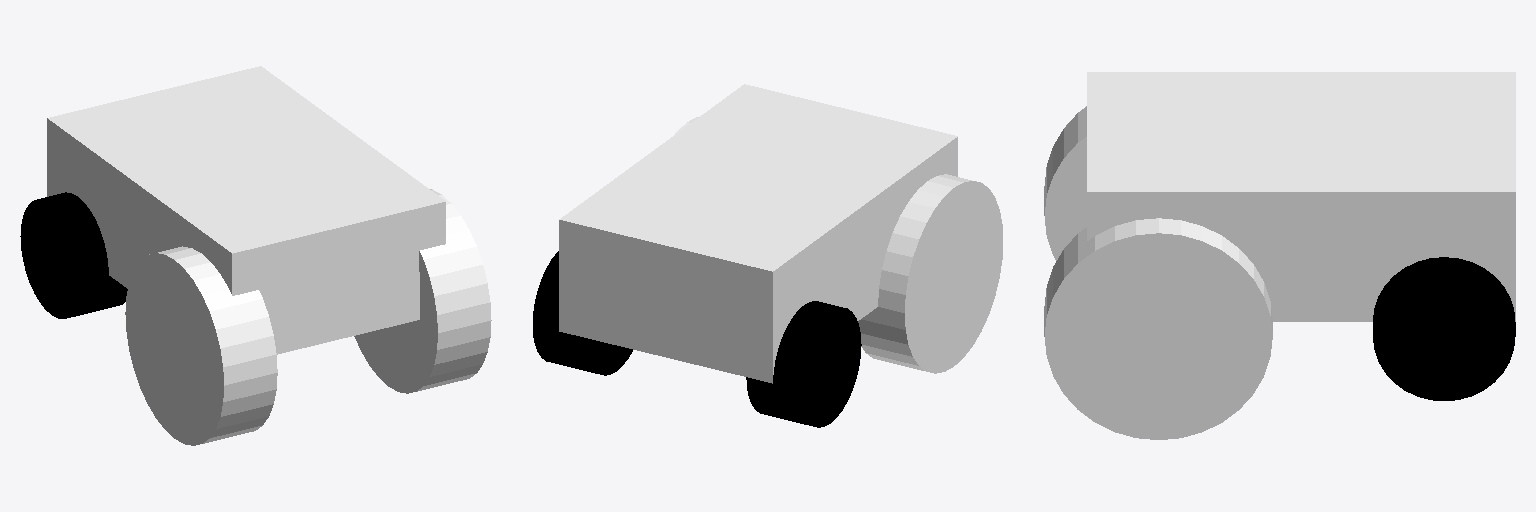
The robot description file, URDF, robot "car":
<!-- 
    需求: 长方体

 -->


<robot name="car">     
    <link name="base_link">
           <visual>
                 <geometry>
                       <box size="0.2 .3 .1"/>
                 </geometry>
            <origin rpy="0 0 0" xyz="0 0 0.05"/>
            <material name="white">
                <color rgba="1 1 1 1"/>
            </material>
           </visual>     
     </link>

     <link name="wheel_1">
           <visual>
                 <geometry>
                       <cylinder length="0.05" radius="0.05"/>
                 </geometry>
            <origin rpy="0 1.57 0" xyz="0.1 0.1 0"/>
               <material name="black">
                <color rgba="0 0 0 1"/>
            </material>
        </visual>
     </link>

     <link name="wheel_2">
           <visual>
                 <geometry>
                       <cylinder length="0.05" radius="0.05"/>
                 </geometry>
            <origin rpy="0 1.57 0" xyz="-0.1 0.1 0"/>
               <material name="black"/>
           </visual>
     </link>

     <link name="wheel_3">
           <visual>
                 <geometry>
                       <cylinder length="0.05" radius="0.08"/>
                 </geometry>
            <origin rpy="0 1.57 0" xyz="0.1 -0.1 0"/>
               <material name="white"/>
           </visual>
     </link>

     <link name="wheel_4">
           <visual>
                 <geometry>
                       <cylinder length="0.05" radius="0.08"/>
                 </geometry>
            <origin rpy="0 1.57 0" xyz="-0.1 -0.1 0"/>
               <material name="white"/>
           </visual>
     </link>

     <joint name="base_to_wheel1" type="fixed">
           <parent link="base_link"/>
           <child link="wheel_1"/>
           <origin xyz="0 0 0"/>
     </joint>

     <joint name="base_to_wheel2" type="fixed">
           <parent link="base_link"/>
           <child link="wheel_2"/>
           <origin xyz="0 0 0"/>
     </joint>

     <joint name="base_to_wheel3" type="fixed">
           <parent link="base_link"/>
           <child link="wheel_3"/>
           <origin xyz="0 0 0"/>
     </joint>

     <joint name="base_to_wheel4" type="fixed">
           <parent link="base_link"/>
           <child link="wheel_4"/>
           <origin xyz="0 0 0"/>
     </joint>
</robot>

--- Facts derived from the render (not from the file) ---
3 views of the same robot in one strip: view 1: azimuth 30°, elevation 25°; view 2: azimuth 150°, elevation 25°; view 3: azimuth 270°, elevation 25° (orthographic).
Robot: car — 5 links, 4 joints (4 fixed); root link base_link; default pose: every joint at zero.
Visible links, largest first — view 1: base_link, wheel_4, wheel_3, wheel_2; view 2: base_link, wheel_4, wheel_2, wheel_1; view 3: base_link, wheel_3, wheel_1, wheel_4.
Link boxes in pixels (x1,y1,x2,y2): base_link: [47, 66, 445, 354]; wheel_4: [125, 246, 277, 445]; wheel_3: [354, 189, 491, 393]; wheel_2: [20, 192, 127, 318]; base_link: [559, 84, 957, 383]; wheel_4: [858, 174, 1002, 373]; wheel_2: [746, 301, 861, 427]; wheel_1: [533, 251, 632, 375]; base_link: [1087, 72, 1515, 321]; wheel_3: [1044, 218, 1272, 439]; wheel_1: [1373, 257, 1515, 400]; wheel_4: [1044, 106, 1086, 260].
Bounding box of the posed robot: 0.2501 × 0.33 × 0.18 m (x, y, z).
Geometry: primitives only (box / cylinder / sphere), no mesh files.
